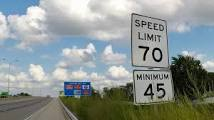speedLimit70: (132, 11, 170, 68)
